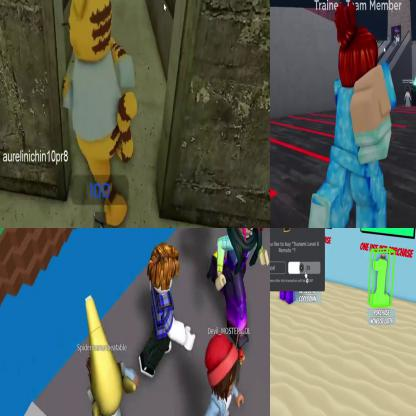Roblox-Avatar: (308, 1, 399, 228), (63, 1, 139, 228), (76, 296, 141, 416), (140, 243, 197, 379), (216, 229, 270, 350), (204, 334, 246, 416), (405, 85, 413, 109)
